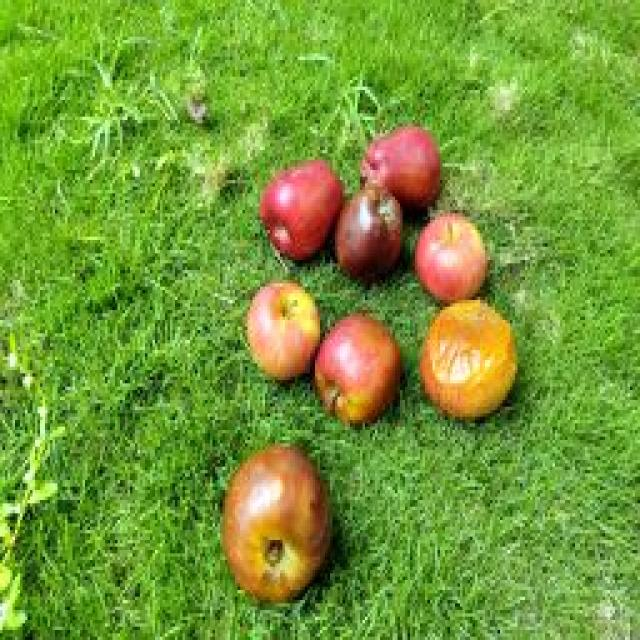Organik: (221, 440, 349, 620), (414, 296, 529, 437), (245, 148, 342, 267), (345, 114, 452, 214), (318, 313, 408, 425), (244, 278, 324, 384), (406, 211, 492, 301), (342, 191, 411, 289)
